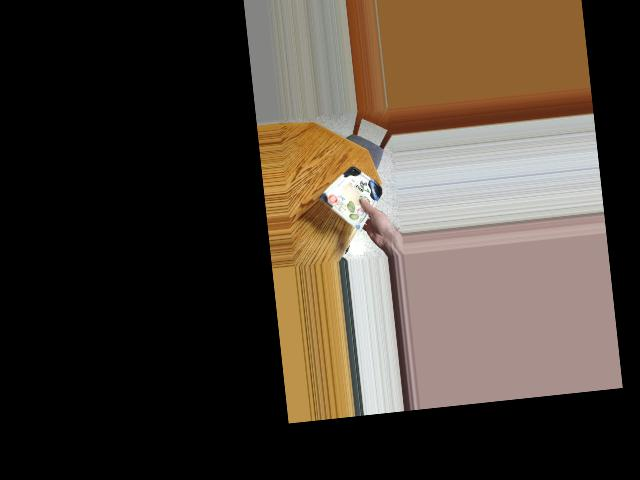cheese: (325, 169, 385, 222)
